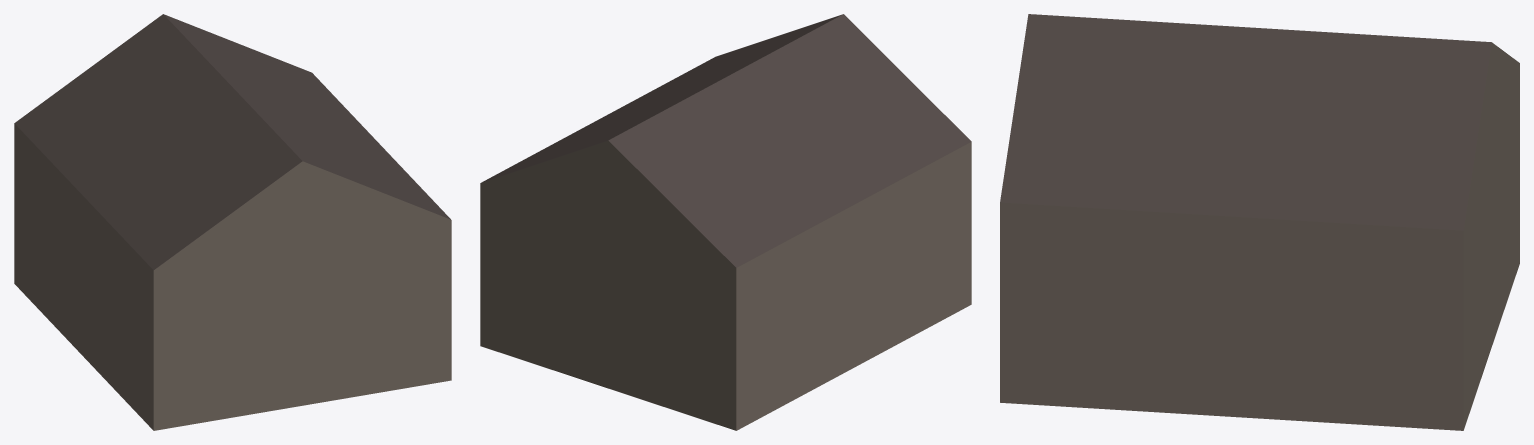
3 views of the same model, side by side, from view 1: azimuth 30°, elevation 25°; view 2: azimuth 150°, elevation 25°; view 3: azimuth 270°, elevation 25° (orthographic). The views are drawn at different scales.
Visible parts, largest first — view 1: HP-w1435559505; view 2: HP-w1435559505; view 3: HP-w1435559505.
Part boxes in pixels (left/top/right/bottom): HP-w1435559505: left=14, top=14, right=451, bottom=430; HP-w1435559505: left=480, top=14, right=971, bottom=430; HP-w1435559505: left=1000, top=14, right=1519, bottom=430.
Size of the model in its own units: 12.57 by 9.14 by 14.11.
